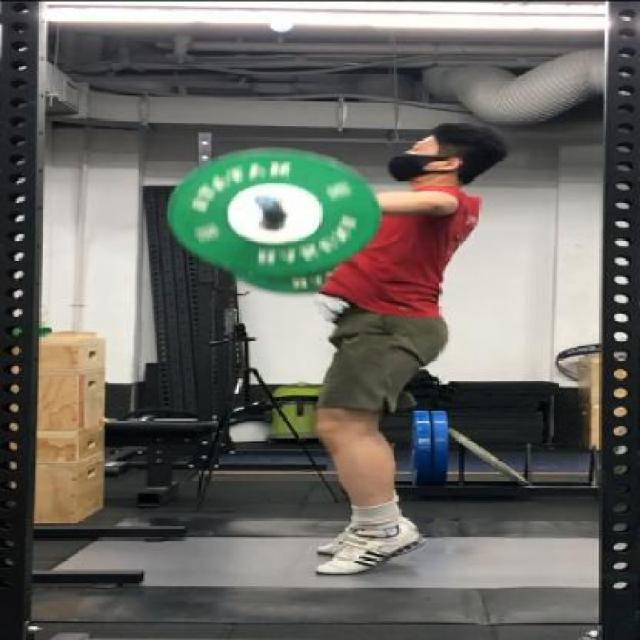Barbell: (252, 190, 286, 212)
